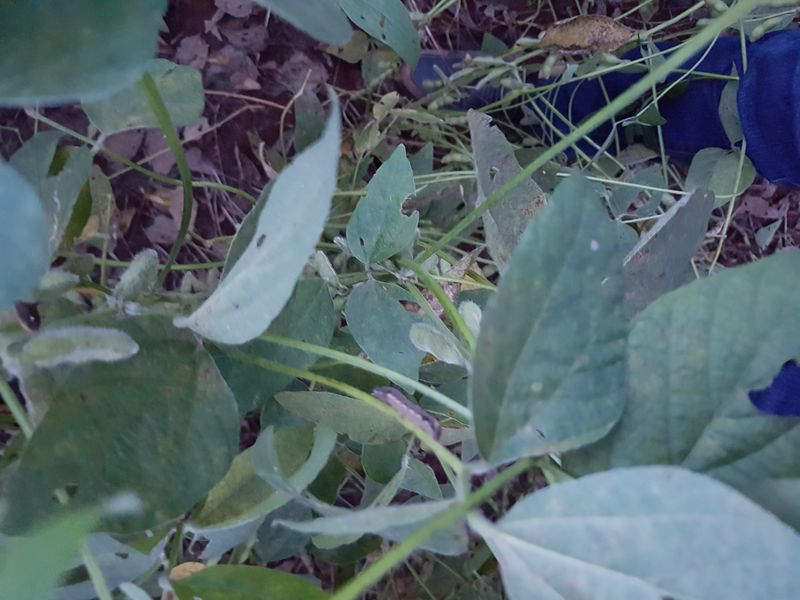Spodoptera_albula: (350, 367, 463, 474)
